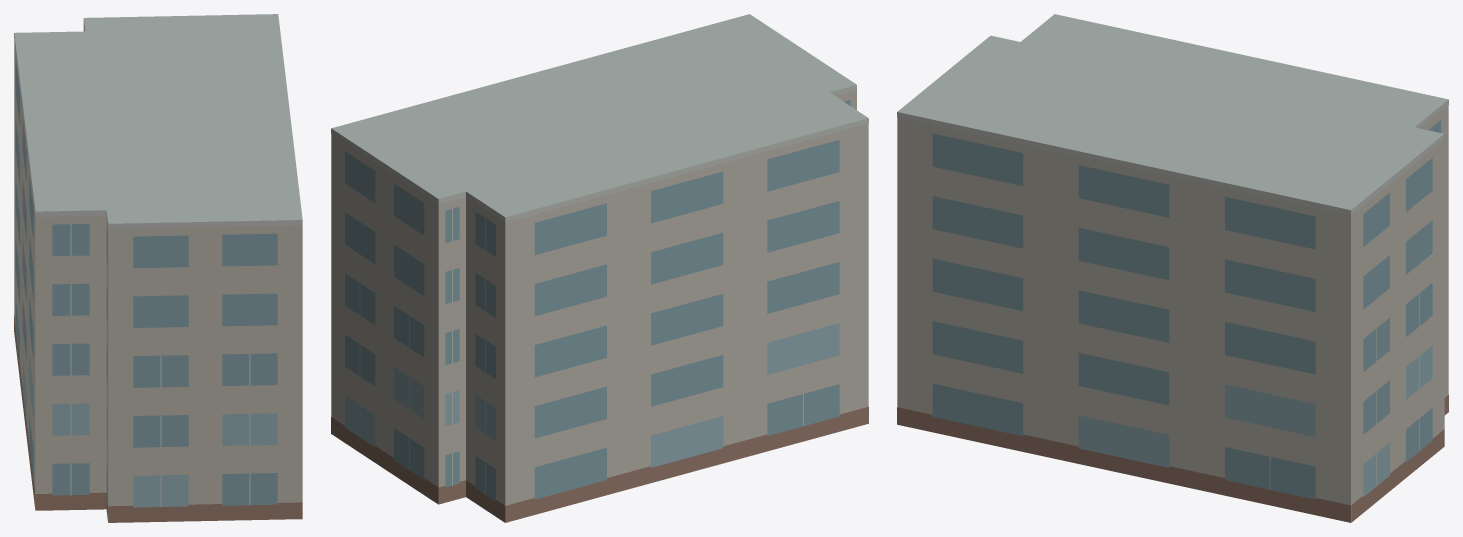
The model's file is survey-upis-32657231.glb.
3 views of the same model, side by side, from view 1: azimuth 30°, elevation 25°; view 2: azimuth 150°, elevation 25°; view 3: azimuth 270°, elevation 25° (orthographic). The views are drawn at different scales.
Parts seen in each view (by area): view 1: survey-upis-32657231.tmp; view 2: survey-upis-32657231.tmp; view 3: survey-upis-32657231.tmp.
Part boxes in pixels (x1,y1,x2,y2): survey-upis-32657231.tmp: [14, 14, 302, 522]; survey-upis-32657231.tmp: [331, 14, 868, 522]; survey-upis-32657231.tmp: [897, 14, 1448, 522].
Size of the model in its own units: 18.71 by 13.9 by 22.23.
